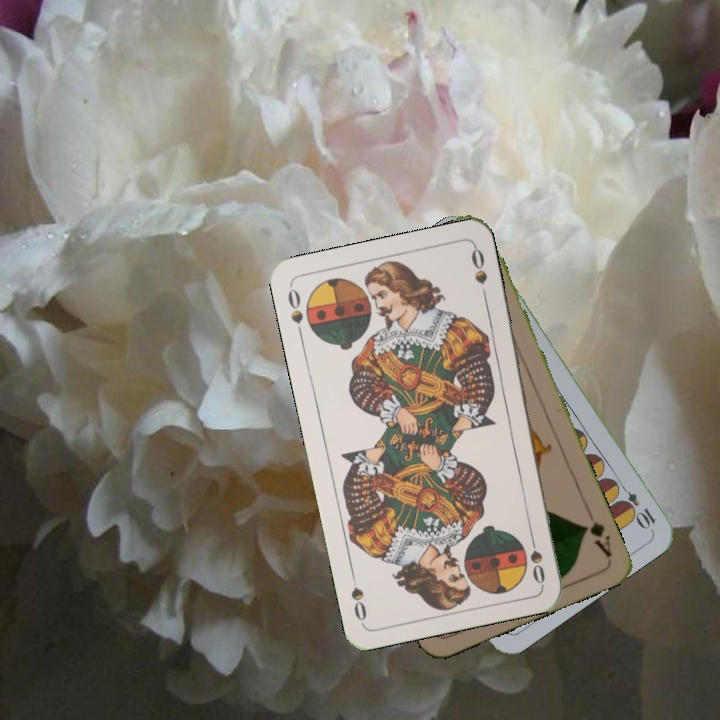E10: (614, 478, 659, 531)
GA: (579, 504, 615, 561)
SO: (525, 528, 548, 587), (284, 282, 306, 341)
